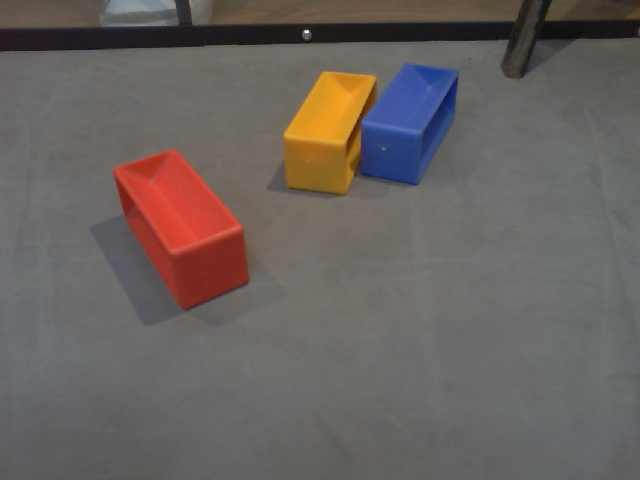BlueSample: (358, 63, 459, 186)
RedSample: (109, 142, 250, 312)
YellowSample: (278, 65, 377, 197)
